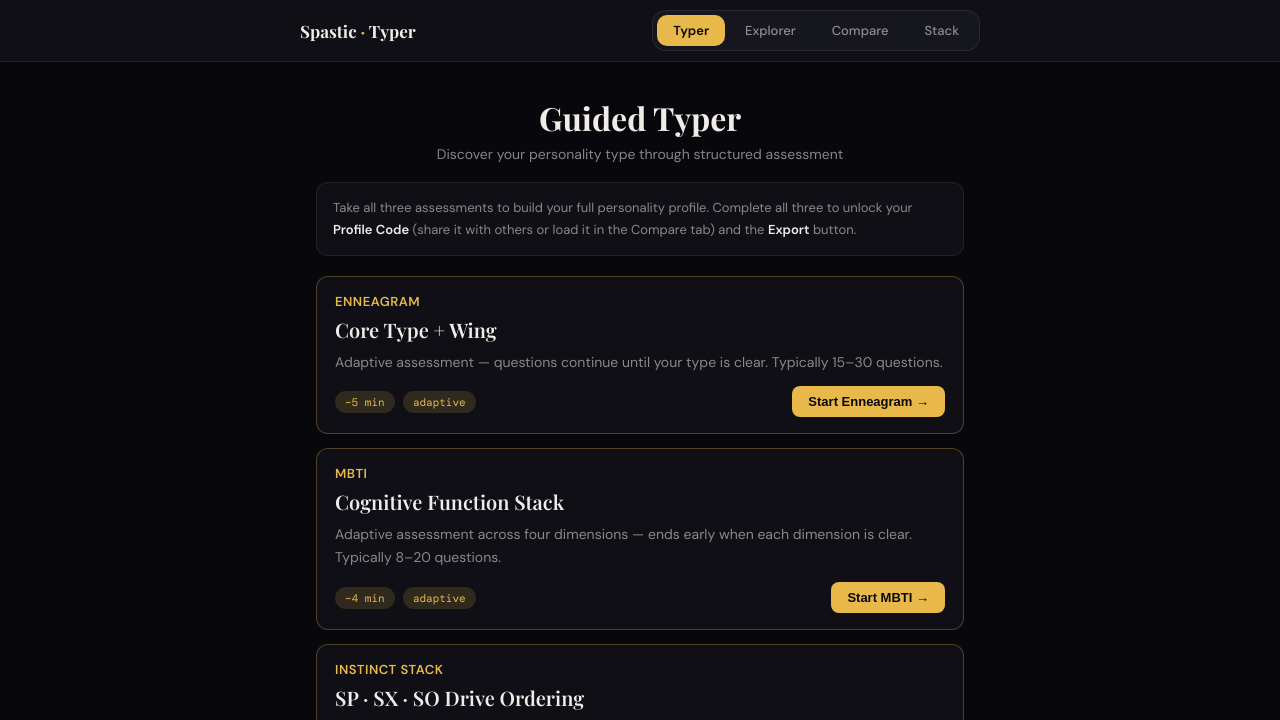
Scenario: Navigation — tabs › switches to Explorer view
Click the button "Explorer" at (770, 30), box [729,15,812,46]
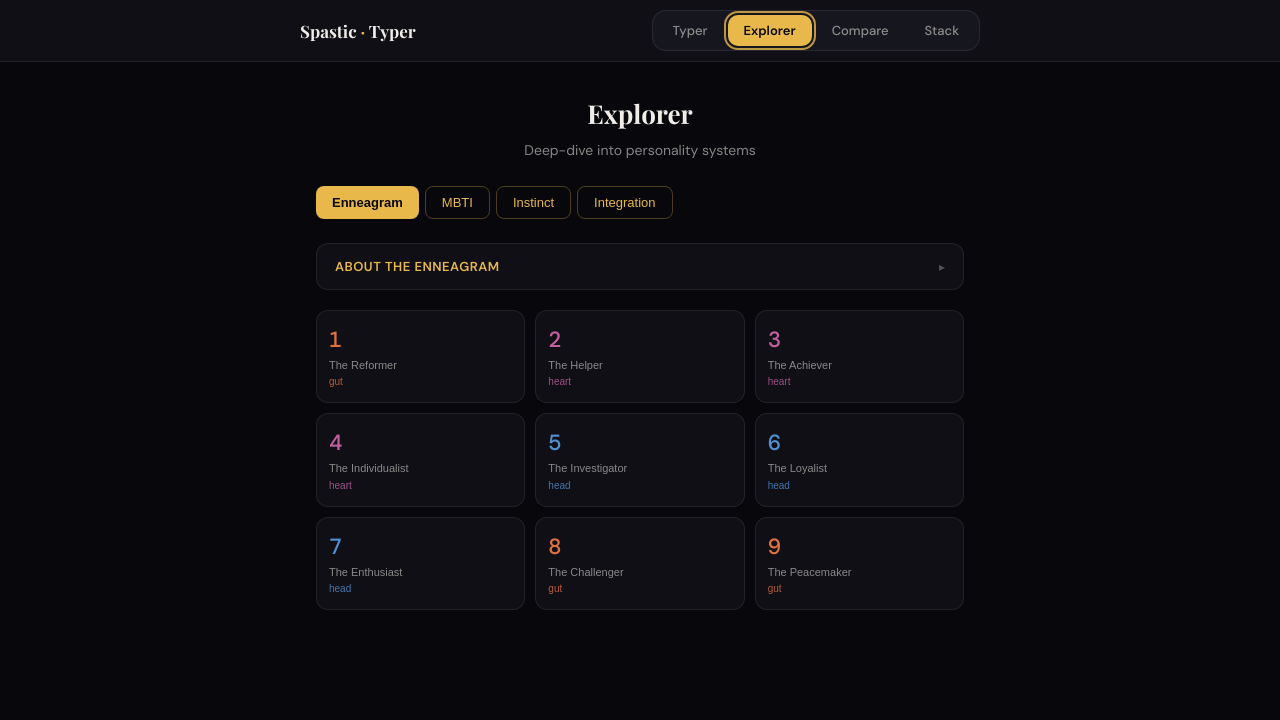
Result: the heading "Explorer" is shown at [587,96,693,131]
